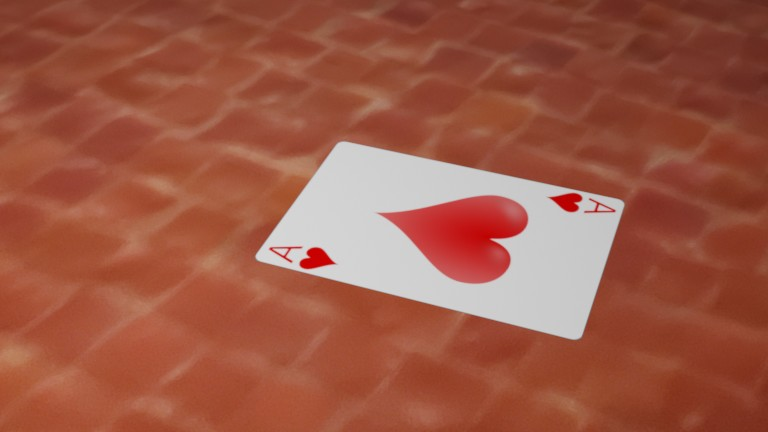ace_of_hearts: (104, 94, 138, 111), (216, 74, 248, 90)
